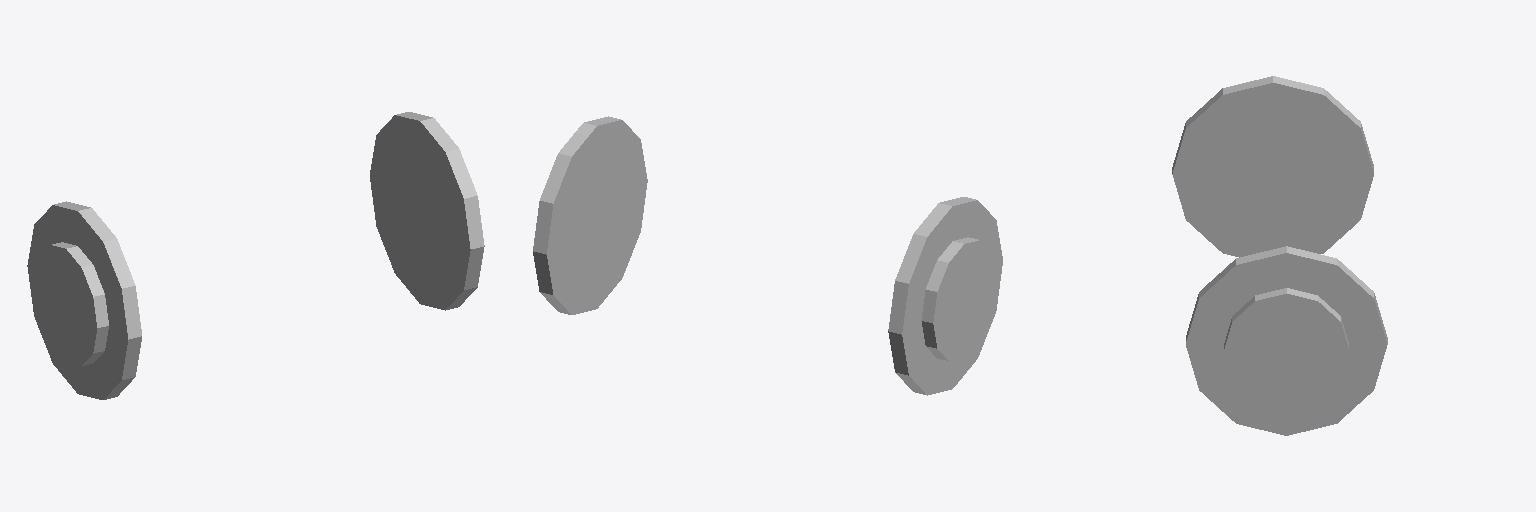
File: vehicle_new.obj
3 renders of one model, left to right at view 1: azimuth 30°, elevation 25°; view 2: azimuth 150°, elevation 25°; view 3: azimuth 270°, elevation 25°, orthographic.
Parts seen in each view (by area): view 1: Circle.001_Circle, Circle; view 2: Circle, Circle.001_Circle; view 3: Circle, Circle.001_Circle.
Part boxes in pixels (left/top/right/bottom): Circle.001_Circle: left=27, top=201, right=141, bottom=399; Circle: left=370, top=112, right=484, bottom=310; Circle: left=533, top=116, right=647, bottom=314; Circle.001_Circle: left=888, top=197, right=1002, bottom=395; Circle: left=1186, top=246, right=1387, bottom=435; Circle.001_Circle: left=1172, top=76, right=1373, bottom=257.
Bounding box in the file's own units: 1.92 × 0.8685 × 0.9254.